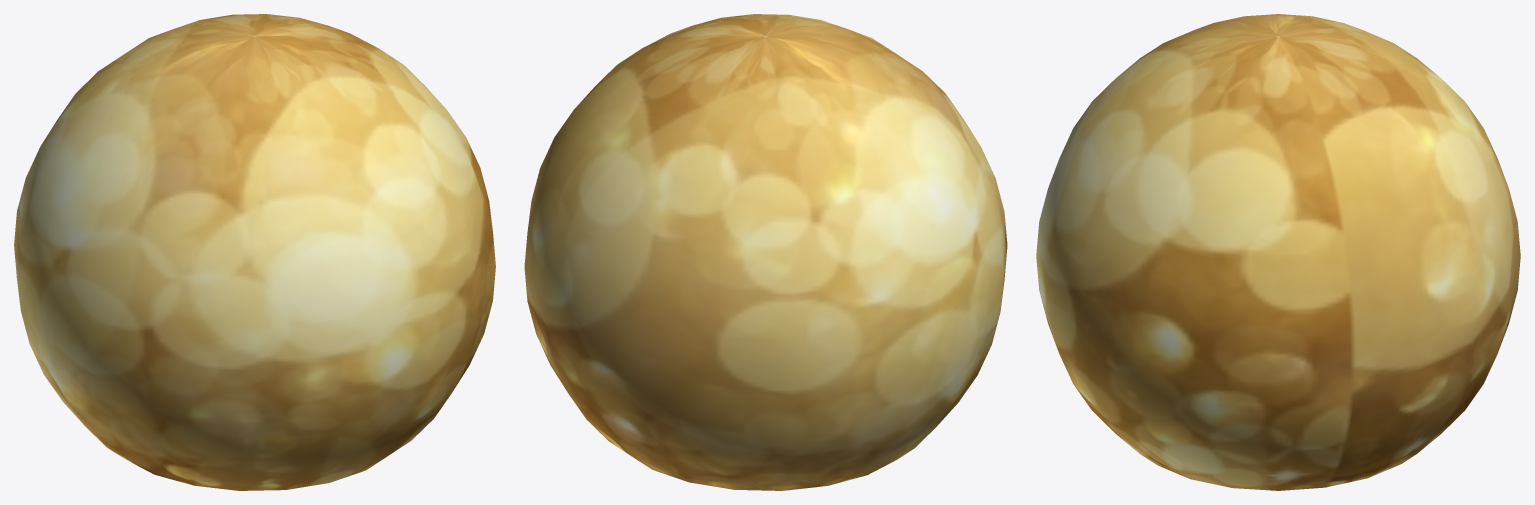
File: bowl.obj
The picture shows the model from 3 angles, left to right: view 1: azimuth 30°, elevation 25°; view 2: azimuth 150°, elevation 25°; view 3: azimuth 270°, elevation 25°; orthographic projection.
Visible parts, largest first — view 1: pSphere2; view 2: pSphere2; view 3: pSphere2.
Part boxes in pixels (x1,y1,x2,y2): pSphere2: (14,14,495,490); pSphere2: (524,14,1007,490); pSphere2: (1036,14,1520,490).
Size of the model in its own units: 2 by 1.79 by 2.
1 material, 1 textured.
